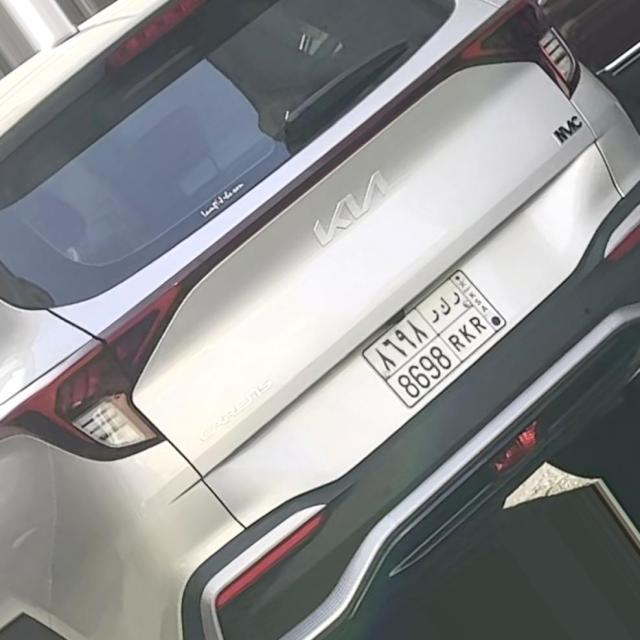Car-plate: (345, 244, 523, 421)
